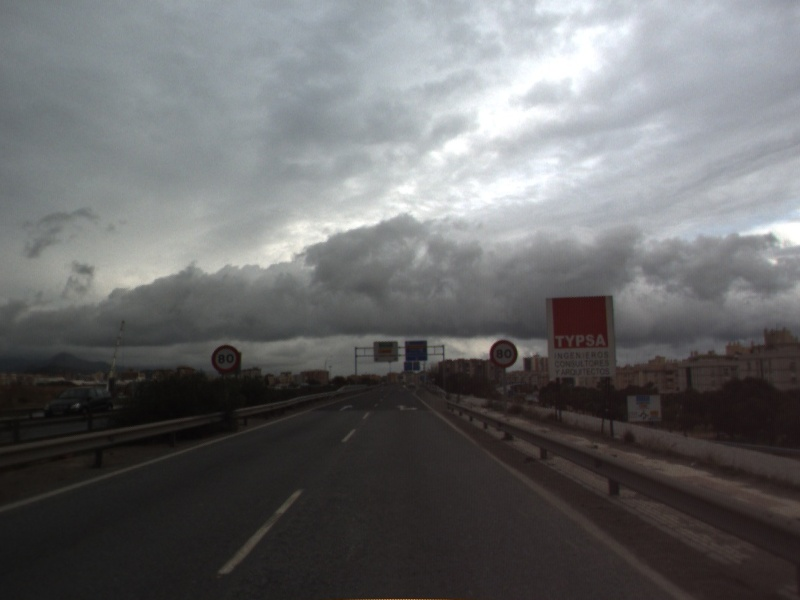STRAIGHT: (336, 402, 356, 413)
STRAIGHT_RIGHT: (394, 402, 420, 412)
